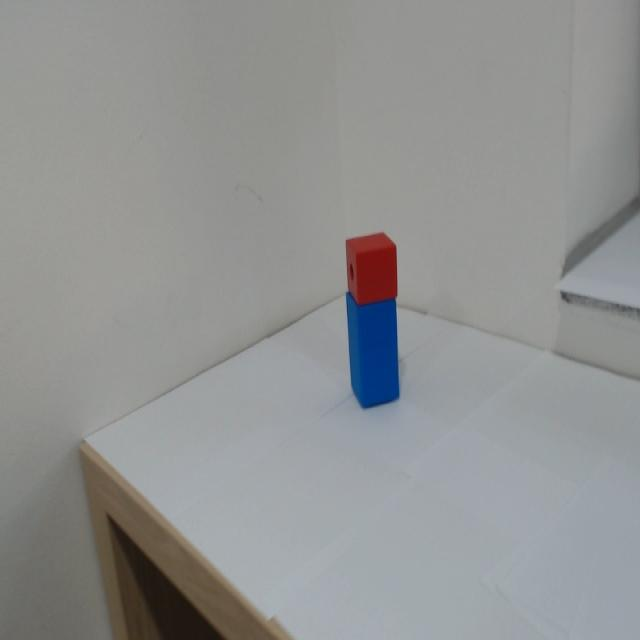cube: (343, 219, 414, 305)
